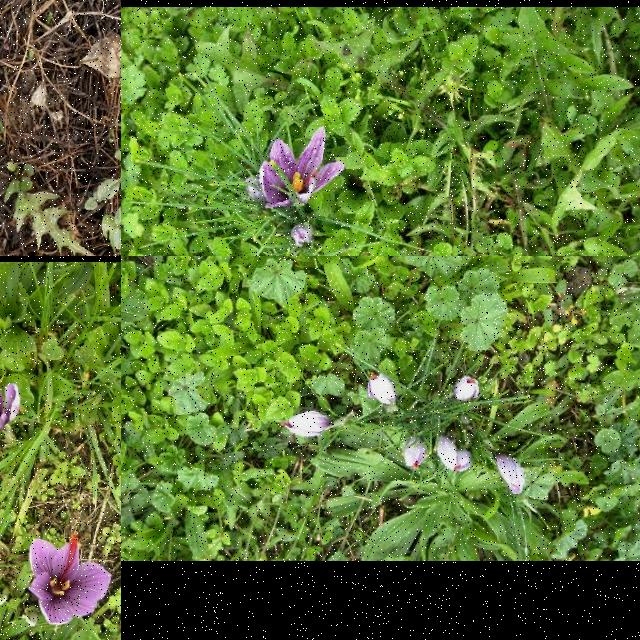flower: (29, 534, 112, 624), (258, 127, 344, 207), (280, 410, 334, 438), (0, 373, 20, 441), (495, 452, 525, 496), (367, 373, 397, 407), (404, 436, 428, 469), (454, 376, 480, 402), (292, 224, 314, 246)
overlap: (436, 435, 474, 473)
